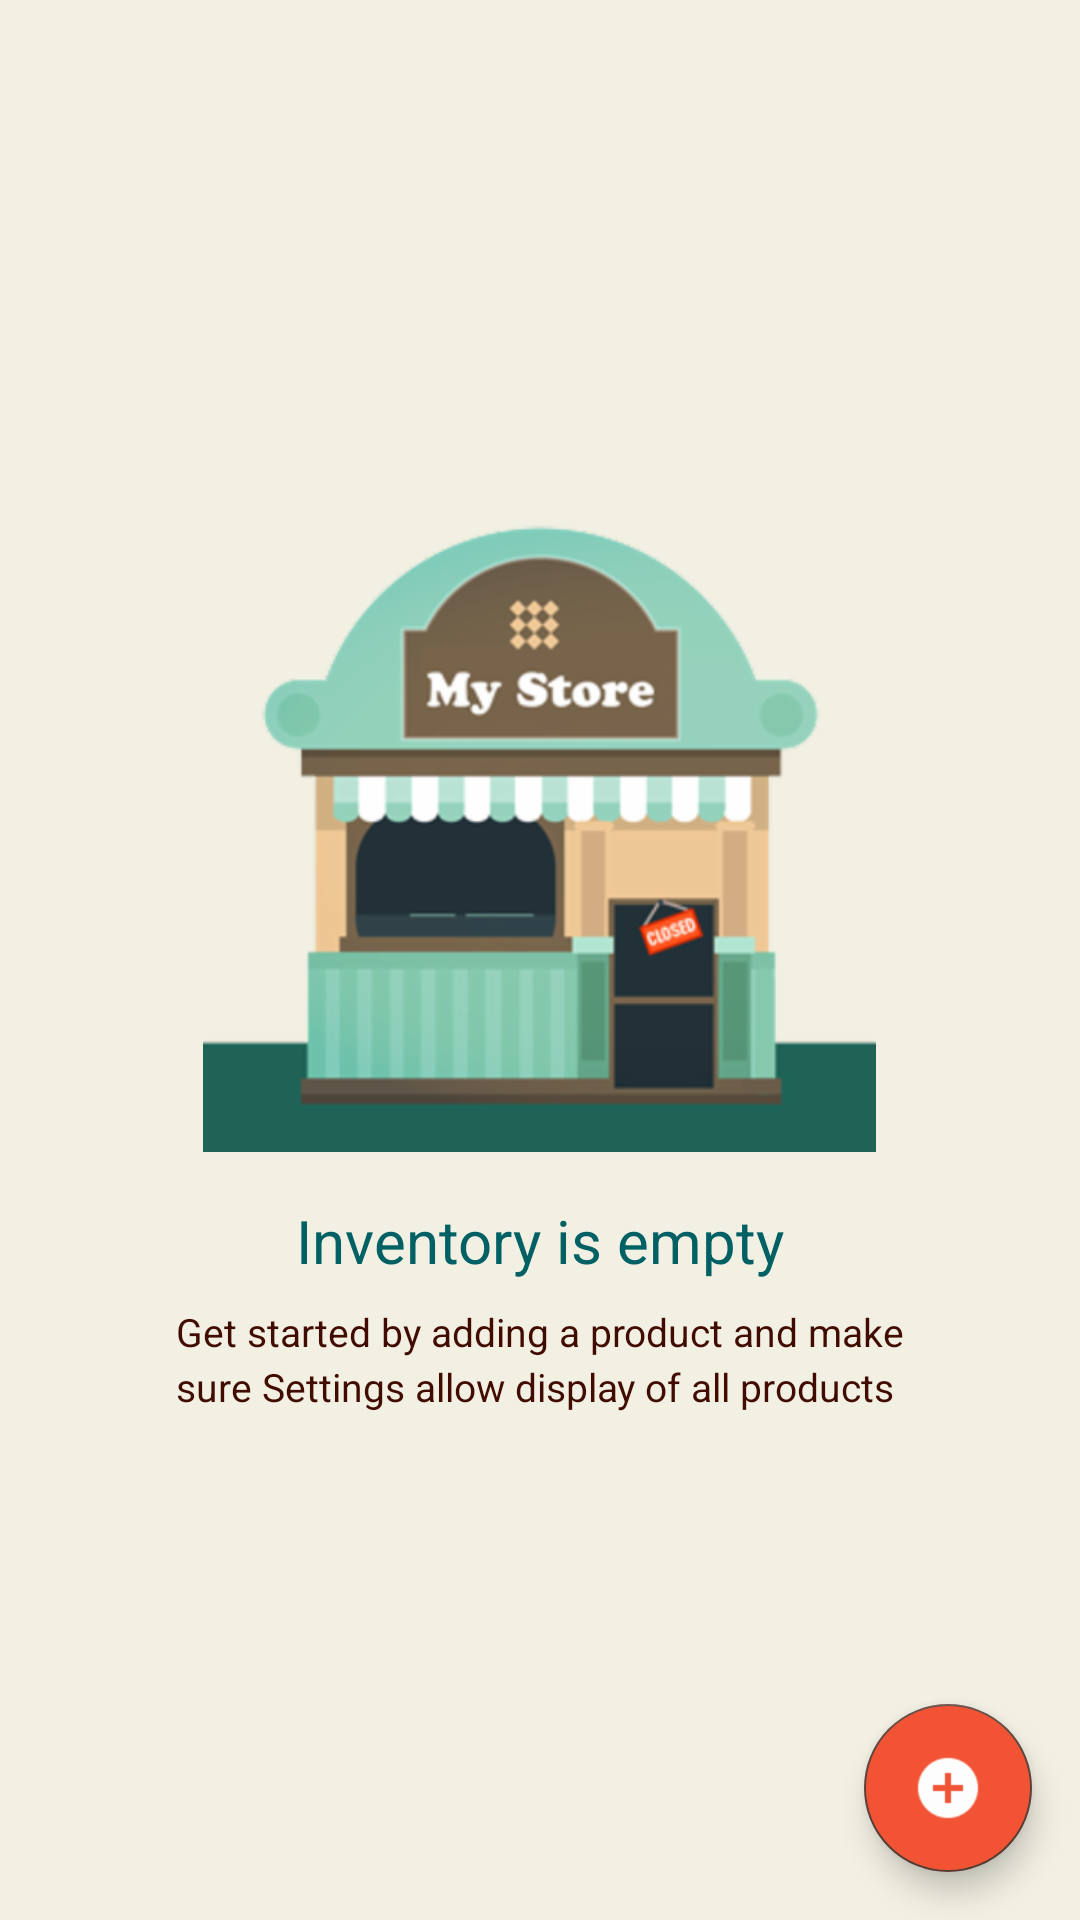

Icons on this 1080px×1920px Android screen, each with the point to tap as (x,y):
plus circle: (948,1788)
